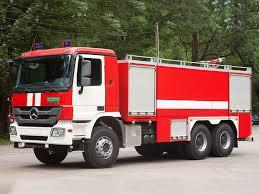Fire-engine: (2, 35, 257, 170)
